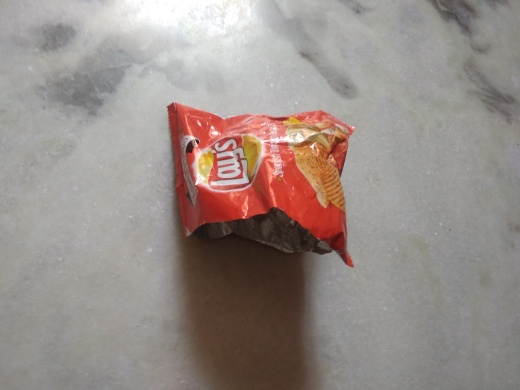lays: (157, 86, 364, 272)
